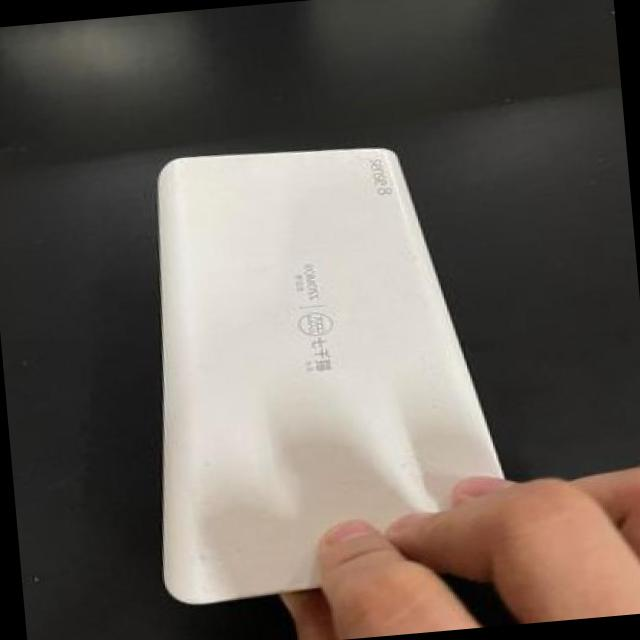power_bank: (118, 122, 524, 629)
